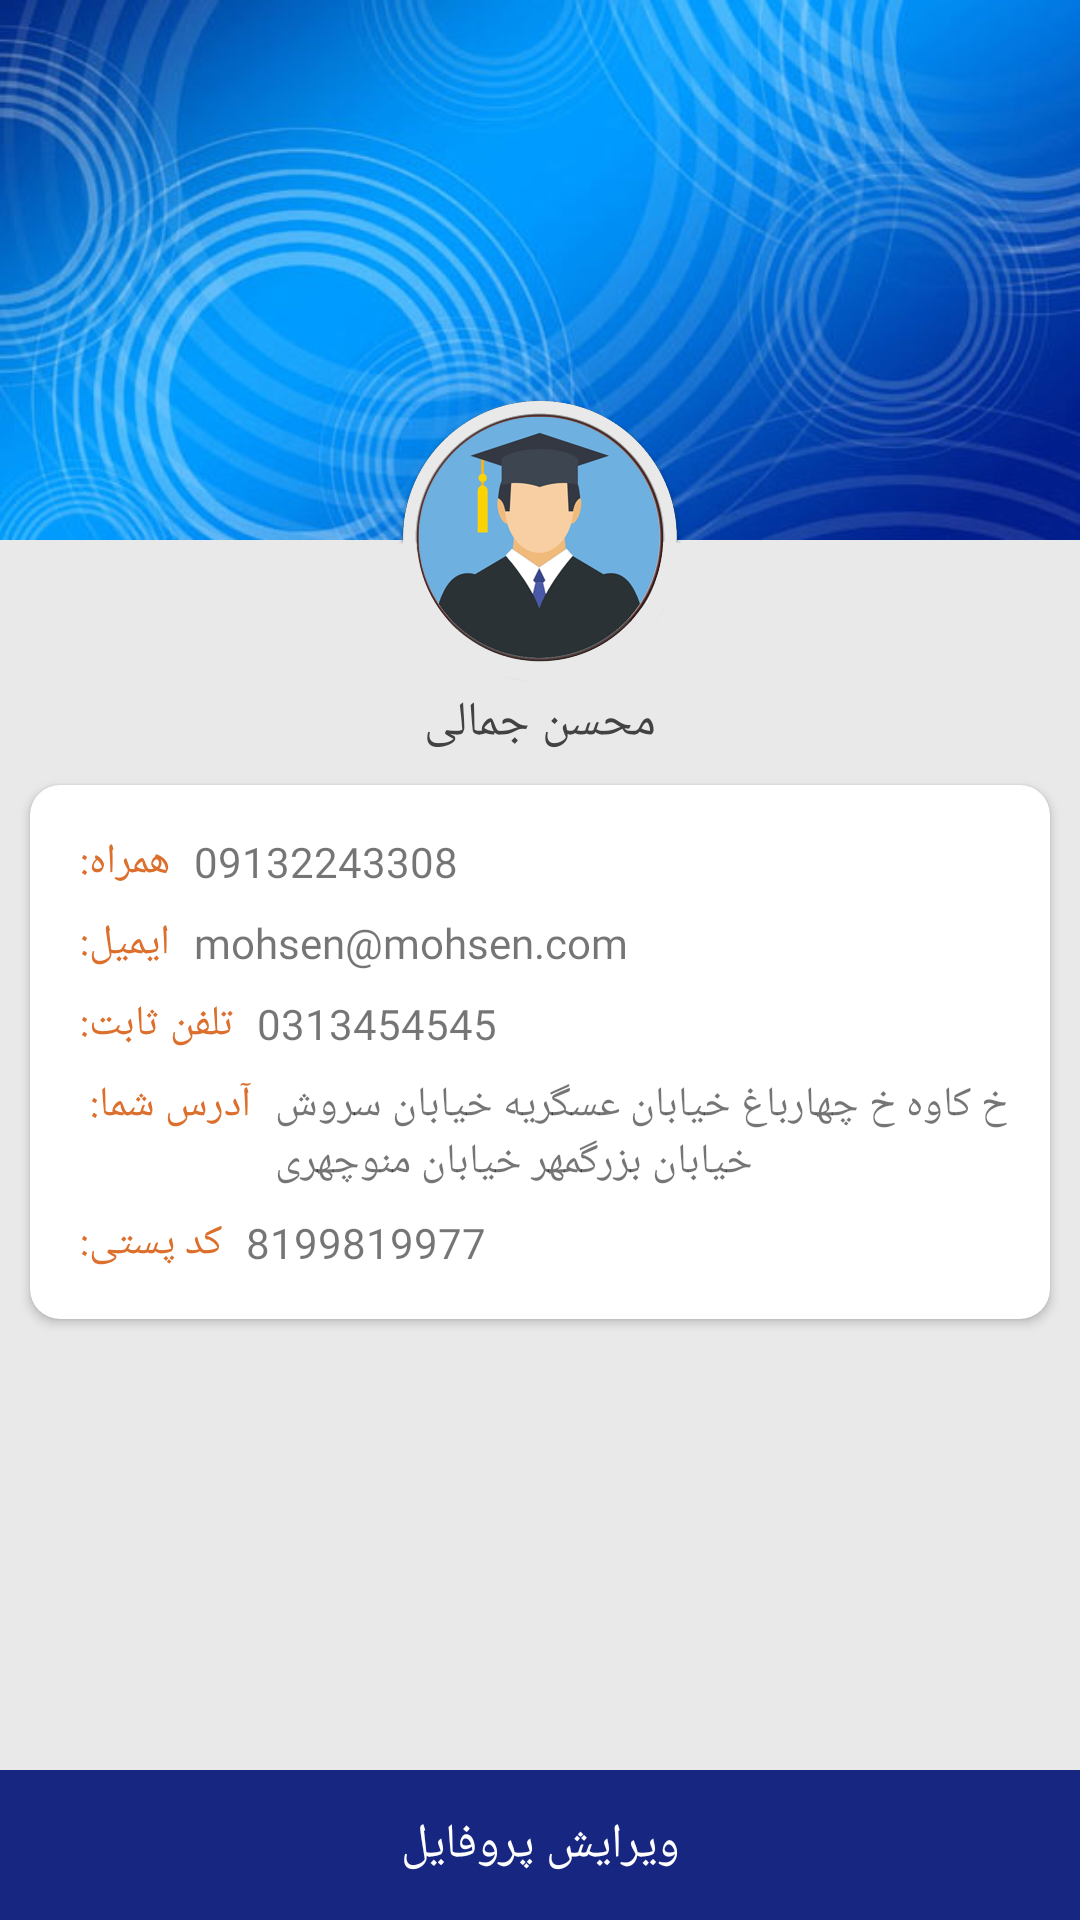

Icon click points for this 1080 x 1920 phone screenshot, format point (x, y):
profile pic: point (540, 540)
